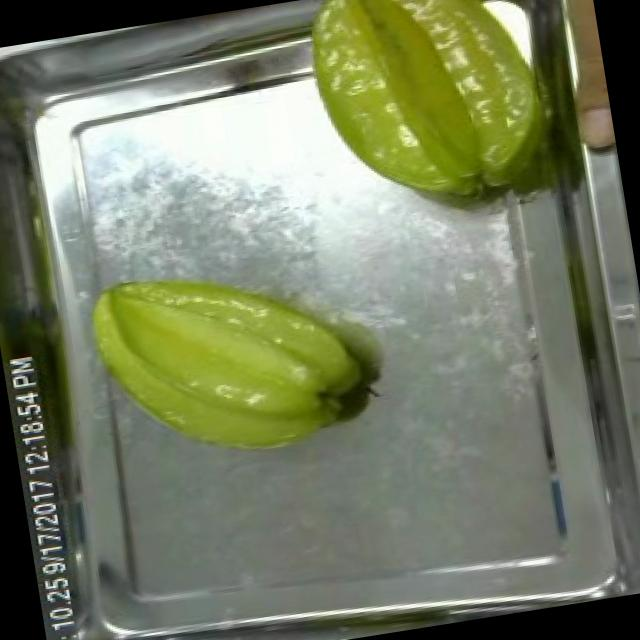fruit: (72, 238, 390, 492), (289, 0, 573, 232)
